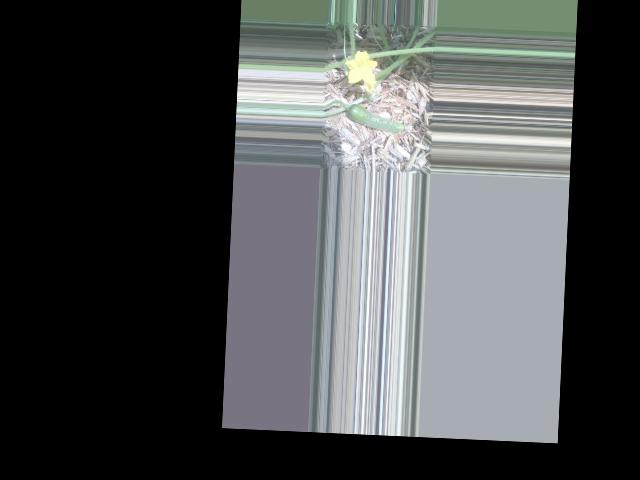cucumber: (345, 103, 411, 133)
